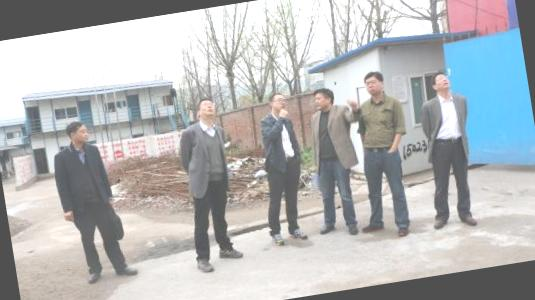no_helmet: (308, 82, 340, 113), (62, 115, 90, 147), (360, 66, 388, 98), (194, 94, 222, 124), (428, 68, 454, 96), (264, 87, 289, 116)
